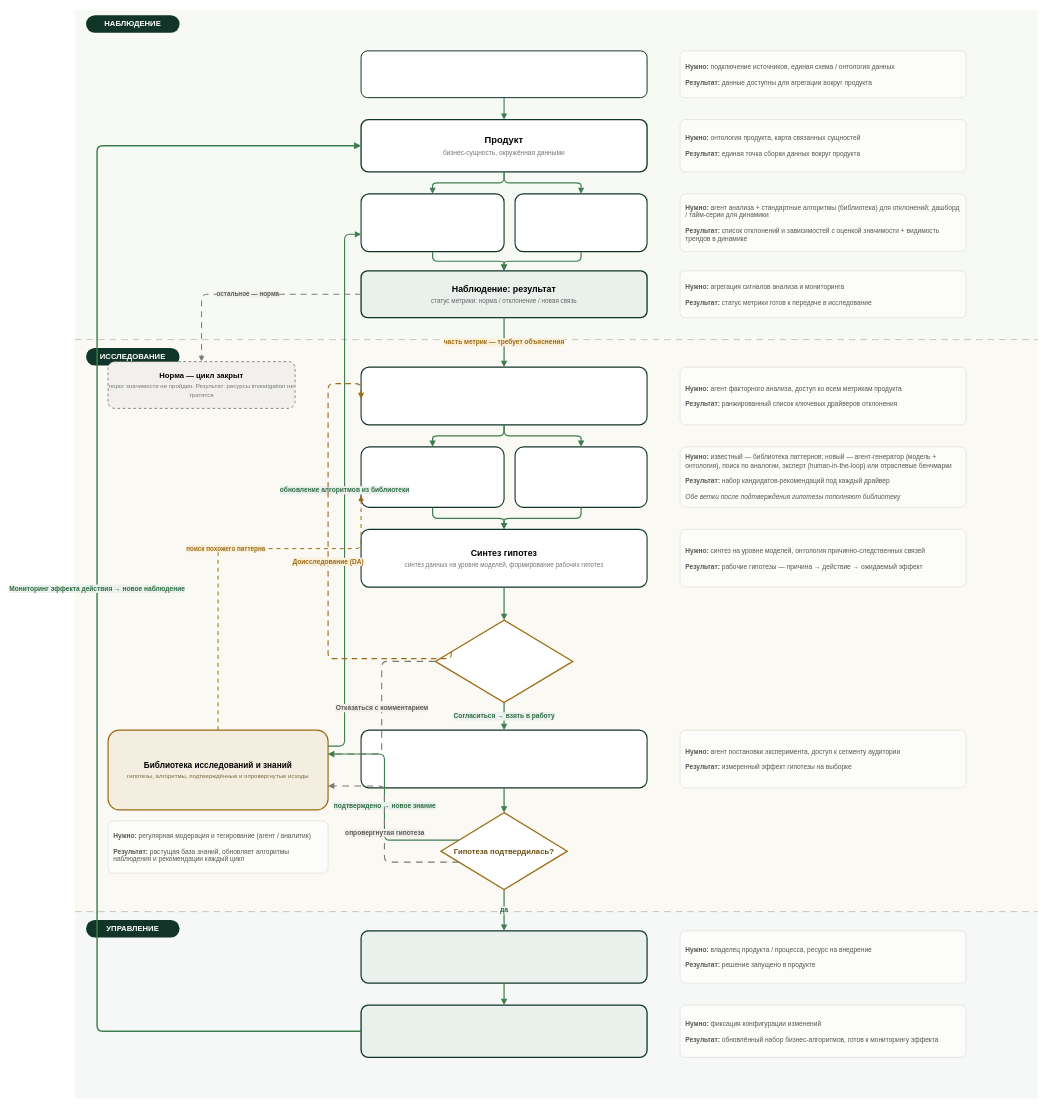
The diagram is 1048 pixels wide and 1108 high, and some of its shapes have lost their labels. Each missing label, with the centre of its shape:
"Действие / внедрение решение применяется к продукту" goes at pixel 503 956.
"Известный драйвер поиск похожего паттерна в библиотеке" goes at pixel 432 477.
"Источники данных A: транзакции · B: клиенты · C: внешние" goes at pixel 503 74.
"Мониторинг метрик в динамике тренды, сезонность, без немедленного триггера" goes at pixel 580 222.
"Новый драйвер генерация: агент + аналогия / эксперт / бенчмарки" goes at pixel 580 477.
"Новый набор действий изменения в бизнес-алгоритмах / процессах" goes at pixel 503 1031.
"Определение драйверов анализ всех метрик, выделение ключевых драйверов" goes at pixel 503 395.
"Поиск отклонений и связей аномалии · корреляции · зависимости" goes at pixel 432 222.
"Что делаем с гипотезой?" goes at pixel 503 661.
"Эксперимент: пилот / АБ-тест проверка на части аудитории" goes at pixel 503 758.
